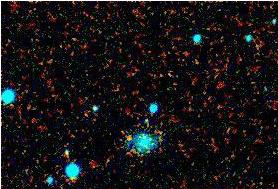star: (115, 122, 145, 152)
